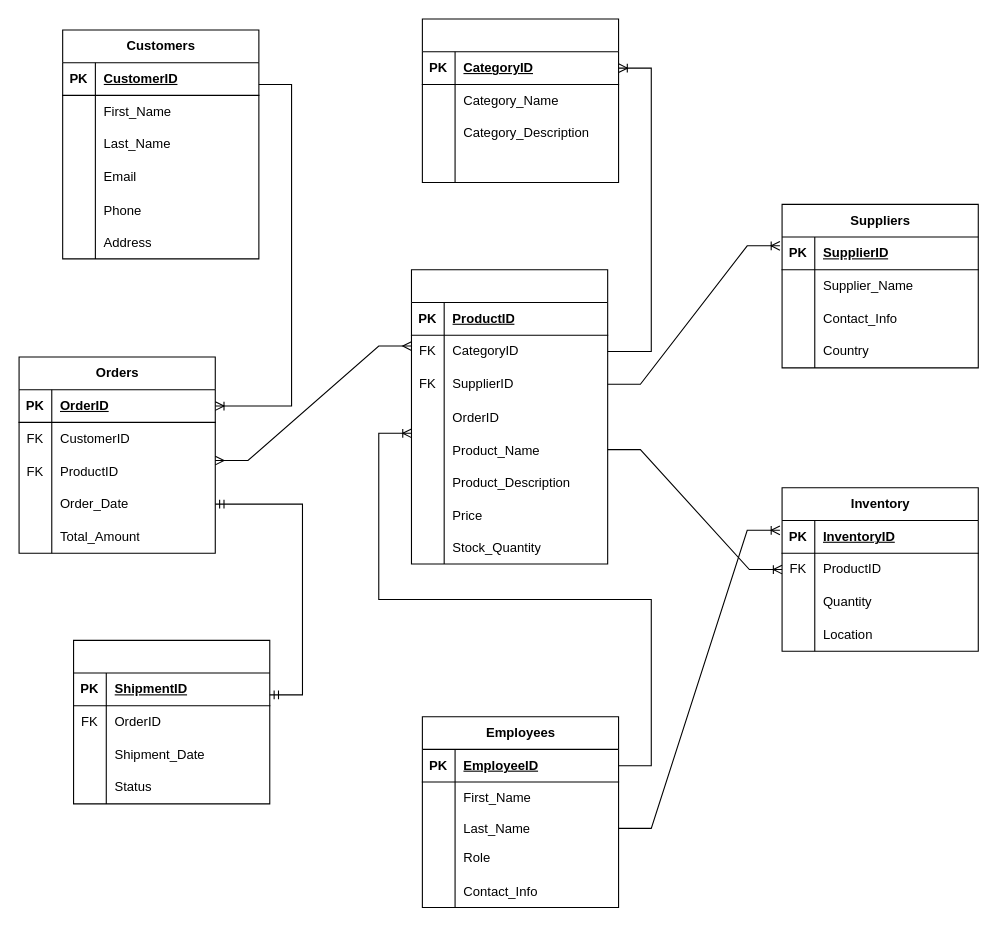
This 997x927 diagram has some shape labels left out. Here are the shapes that lost their labels. From the top down, the box of each, then its label:
(421, 18, 619, 183): Categories
(410, 269, 608, 564): Products
(72, 639, 270, 804): Shipments
